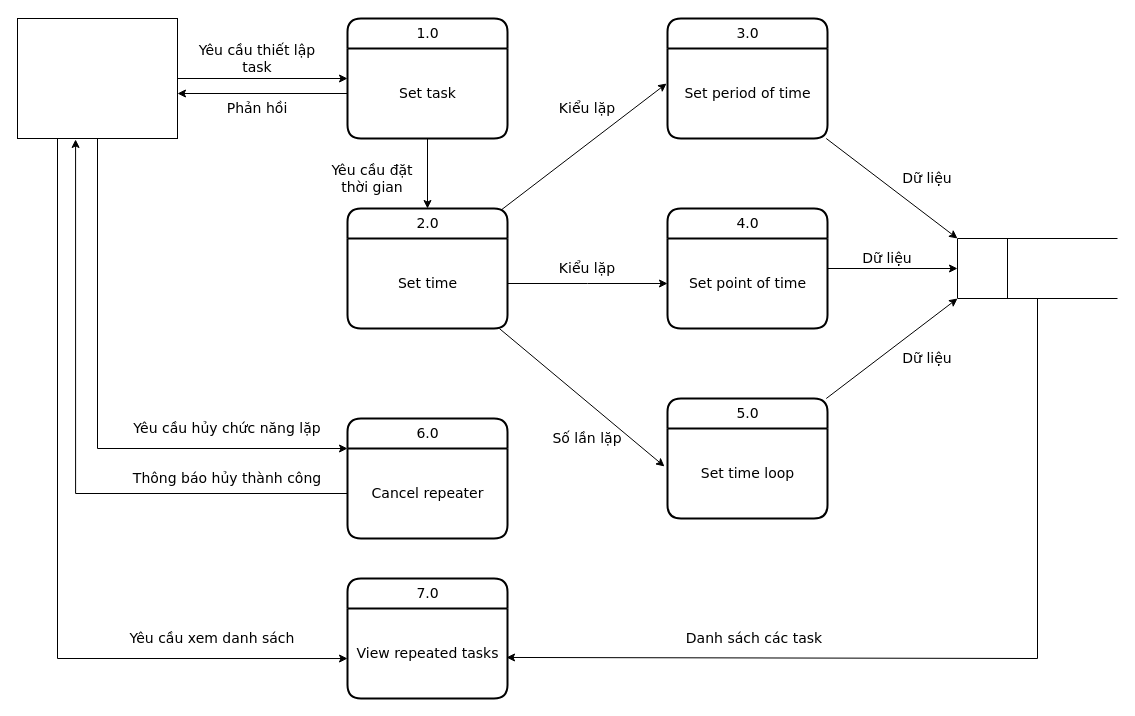
Image size: 1135x716. Some labels were removed from this diagram. Here are the shapes that lost their labels. From the top down, the box of each, then its label:
(16, 18, 178, 138): User
(956, 238, 1118, 298): Database
